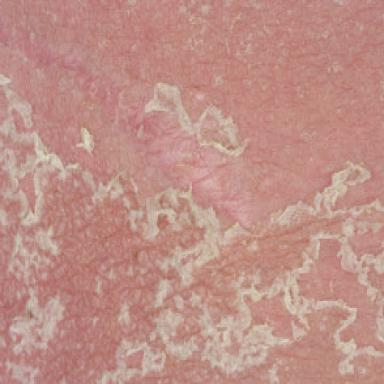eczema: (0, 76, 384, 382), (109, 303, 110, 304)
